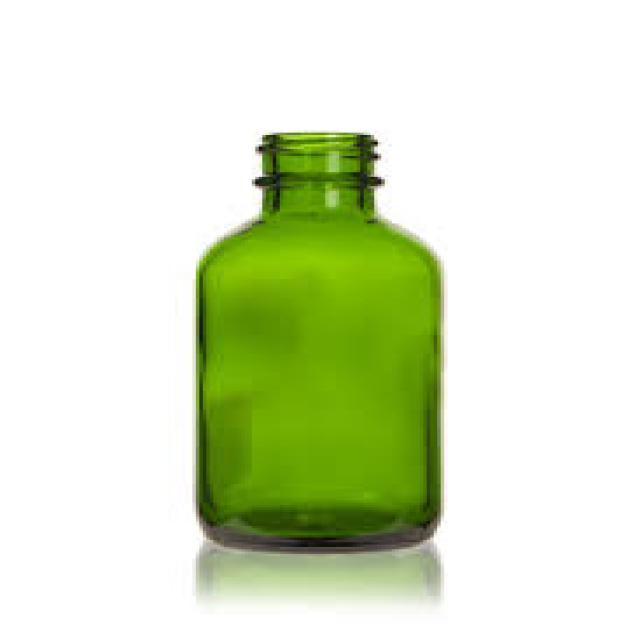glass: (196, 131, 437, 550)
